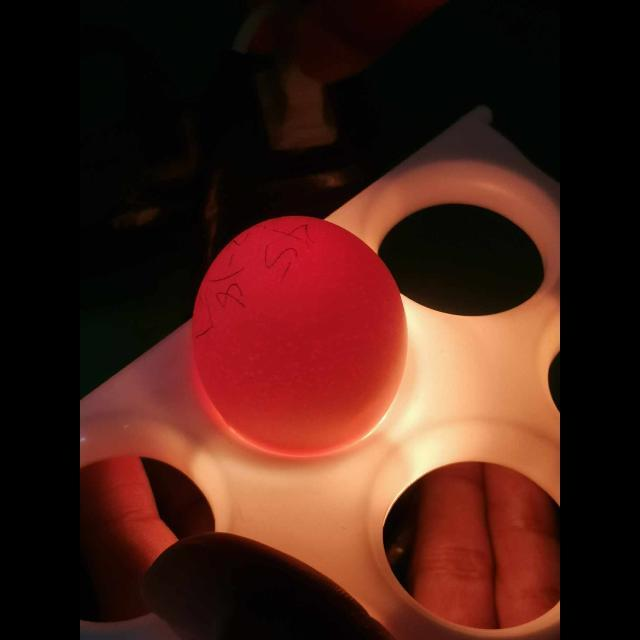Infertile: (188, 210, 410, 456)
